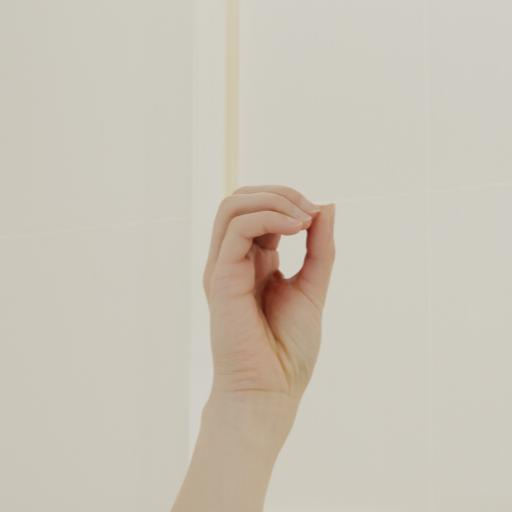O: (193, 164, 348, 512)
